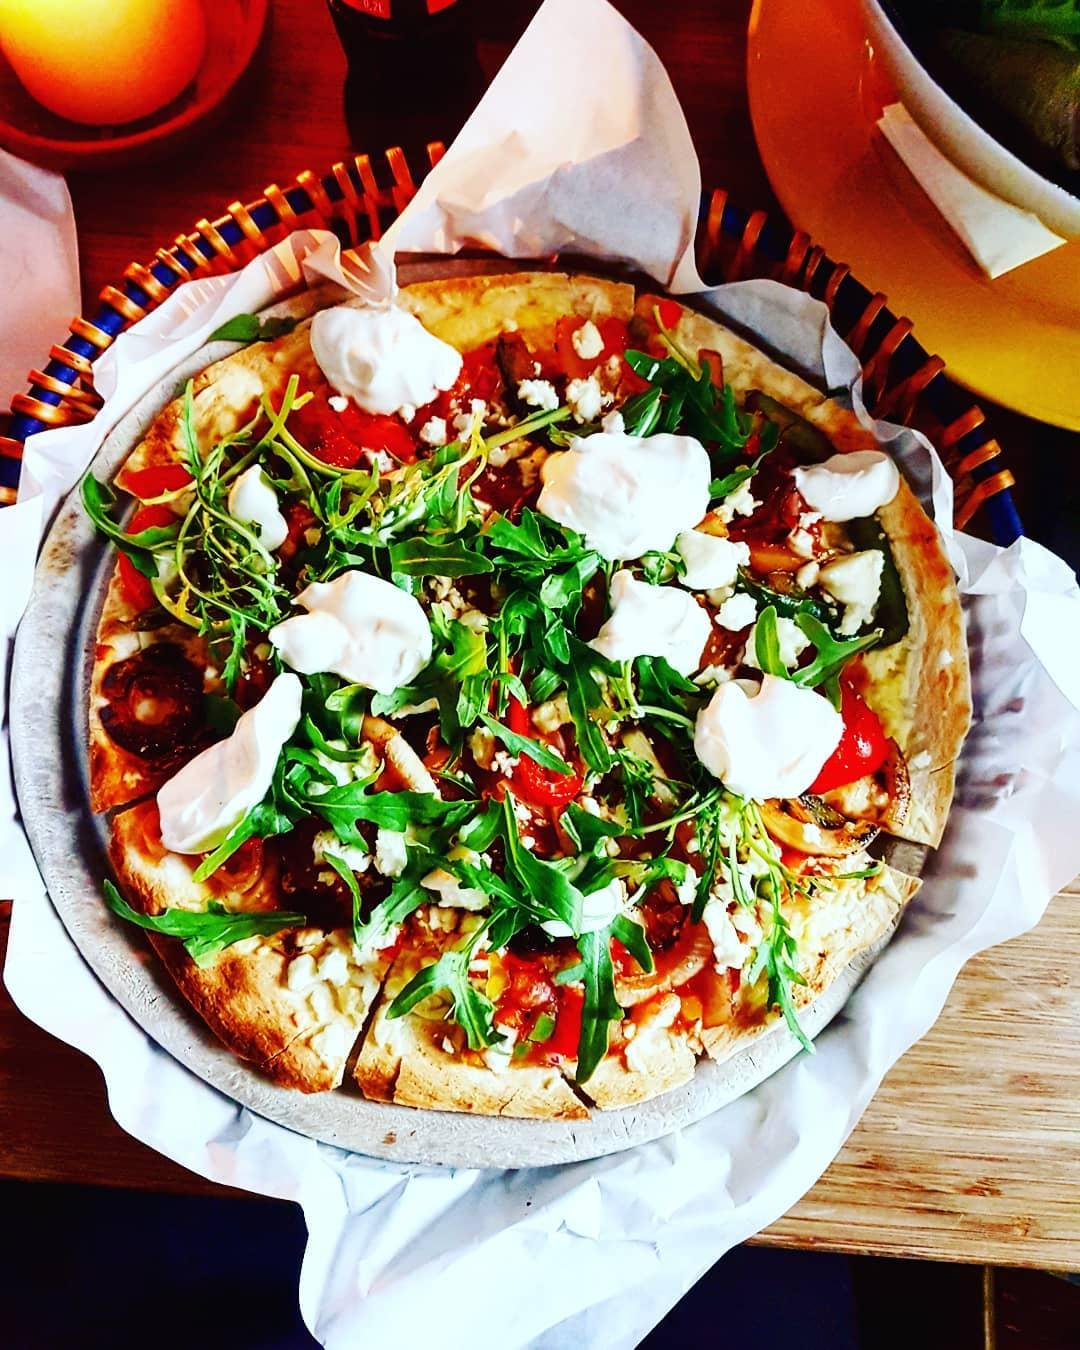Arugula: (353, 485, 587, 617), (554, 813, 766, 952), (322, 785, 544, 916), (190, 439, 276, 663), (639, 350, 745, 447)
Cheese: (156, 681, 300, 852), (554, 434, 717, 546), (306, 310, 466, 415), (278, 579, 429, 680), (714, 682, 821, 785), (605, 579, 708, 673), (802, 451, 889, 523), (230, 465, 291, 542), (681, 527, 738, 584), (825, 551, 882, 598)
Mushroom: (768, 796, 874, 854)
Pizza: (84, 281, 960, 1137)
Tomatoes: (114, 466, 187, 612), (510, 678, 587, 811), (810, 685, 885, 806), (503, 965, 591, 1054), (327, 415, 417, 468)
